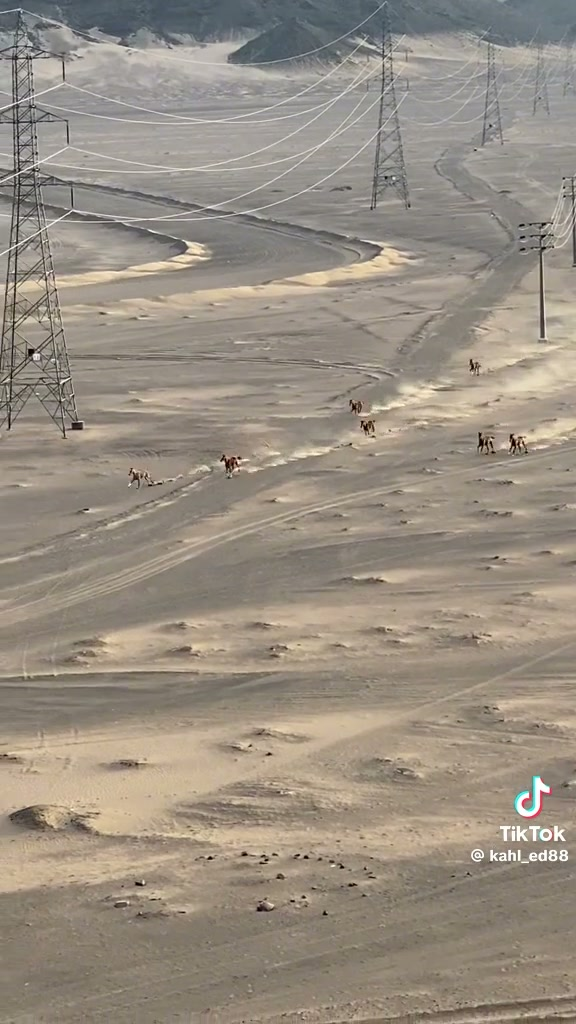animal: (128, 468, 153, 488), (220, 454, 240, 477), (509, 433, 527, 453), (477, 432, 493, 453), (360, 419, 375, 436), (350, 399, 362, 414), (469, 359, 480, 375)
vehicle_track: (47, 484, 396, 612), (82, 909, 393, 1008), (79, 352, 396, 377), (355, 995, 575, 1023)
